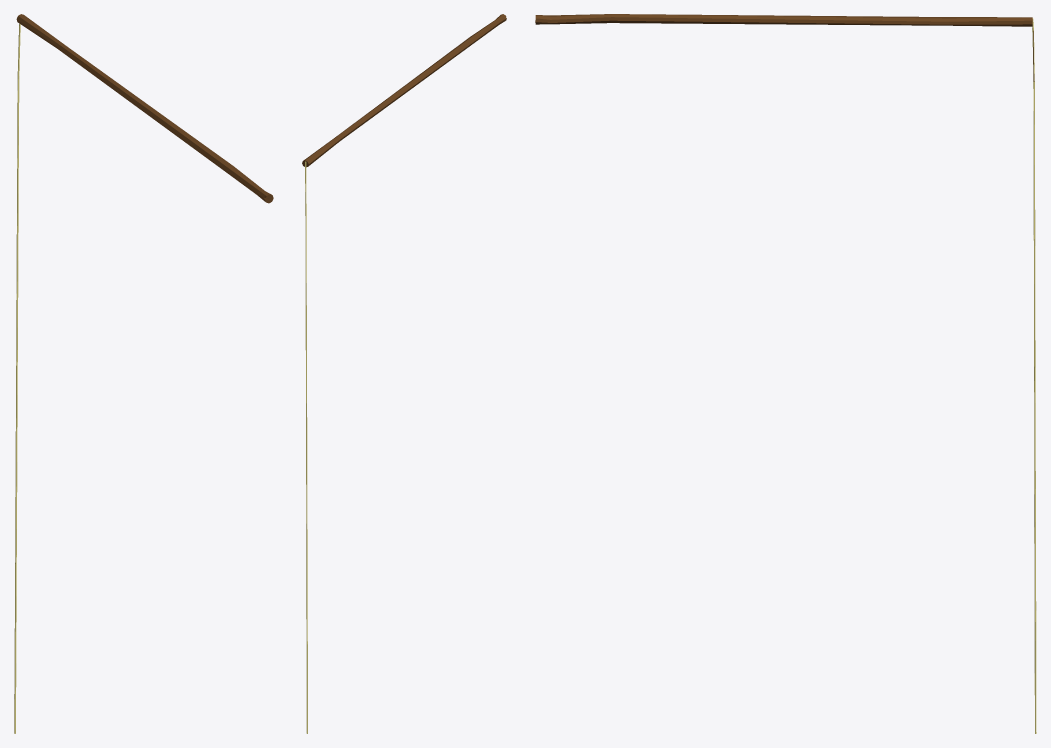
The model's file is Fishing stick.fbx.
The picture shows the model from 3 angles, left to right: view 1: azimuth 30°, elevation 25°; view 2: azimuth 150°, elevation 25°; view 3: azimuth 270°, elevation 25°; orthographic projection. The views are drawn at different scales.
Visible parts, largest first — view 1: Fishing stick; view 2: Fishing stick; view 3: Fishing stick.
Boxes of the visible parts, x1,y1,x2,y2 form: Fishing stick: (14, 14, 273, 733); Fishing stick: (302, 14, 506, 733); Fishing stick: (535, 14, 1036, 733).
Bounding box in the file's own units: 4.71 × 339 × 214.
